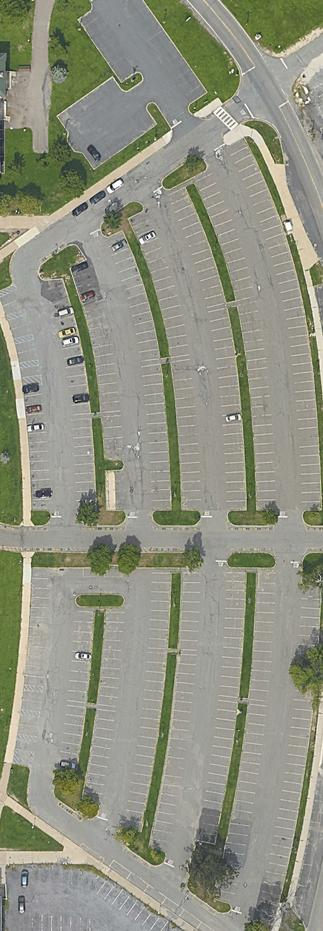parkingspot: (226, 136, 323, 512), (254, 690, 314, 926), (148, 654, 199, 853), (116, 0, 208, 106), (127, 208, 191, 358), (120, 652, 169, 834), (237, 300, 278, 512), (206, 308, 248, 512), (69, 256, 122, 414), (194, 172, 256, 302), (108, 859, 216, 931), (104, 230, 161, 363), (167, 186, 228, 309), (223, 704, 269, 867), (42, 278, 92, 416), (196, 700, 239, 846), (87, 872, 186, 931), (170, 359, 204, 512), (81, 106, 158, 170), (78, 7, 140, 84), (140, 363, 172, 512), (292, 779, 323, 912), (56, 76, 125, 134), (22, 384, 53, 512), (248, 572, 278, 703), (218, 572, 247, 699), (81, 709, 117, 804), (24, 567, 52, 688), (96, 612, 126, 708), (66, 611, 95, 704), (70, 175, 128, 219), (70, 418, 97, 502), (177, 572, 203, 651), (57, 705, 87, 773), (5, 863, 83, 889), (147, 572, 172, 650), (297, 586, 322, 661), (101, 415, 125, 462), (32, 914, 91, 931), (214, 870, 241, 906), (104, 468, 126, 511), (7, 313, 34, 340), (0, 288, 26, 316), (14, 338, 40, 364), (20, 690, 44, 713), (17, 715, 41, 738), (20, 364, 42, 380), (14, 739, 37, 754), (102, 566, 123, 579), (83, 567, 103, 578)
